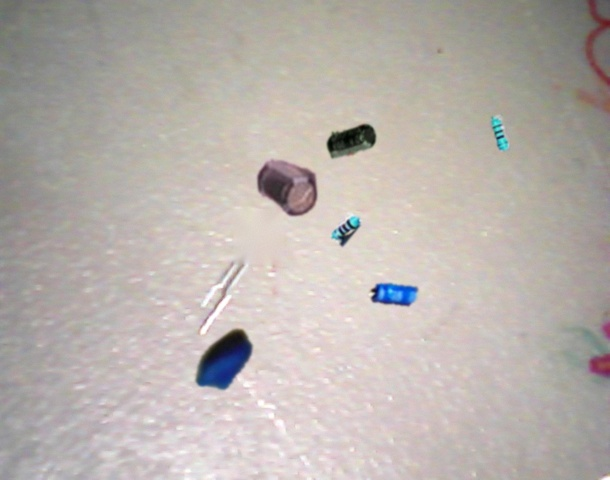capacitor: (195, 329, 253, 390), (257, 159, 317, 216), (326, 124, 376, 159), (368, 283, 418, 307)
resistor: (330, 211, 363, 247), (490, 115, 510, 152)
